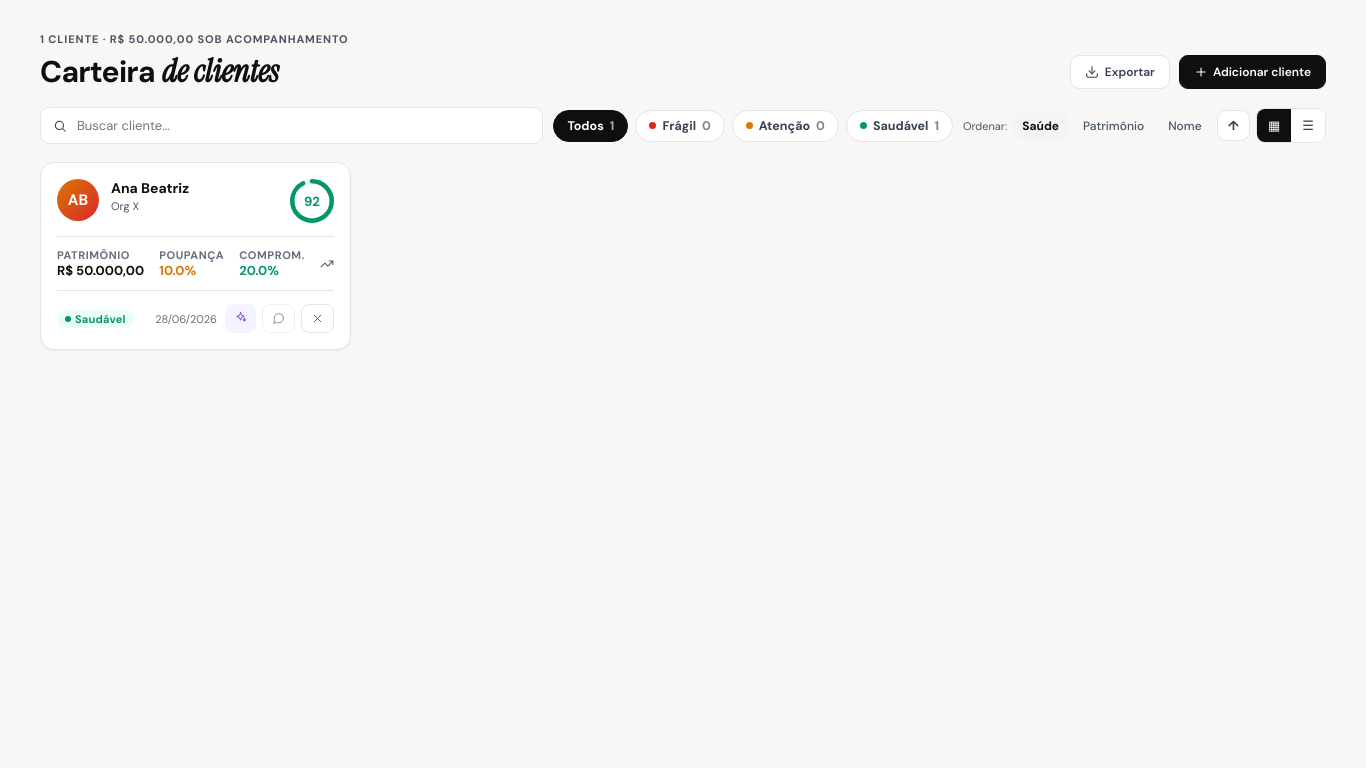
<ConsultantClientsPage> — Avaliar com IA › a avaliação sobrevive ao fechamento: reabrir mostra o resultado que chegou com o painel fechado
This screenshot has width=1366, height=768.
Expected: the text "Ana Beatriz" is shown, [111, 179, 189, 197]
Click the button named "Avaliar com IA".
click(240, 319)  # box [225, 304, 256, 333]
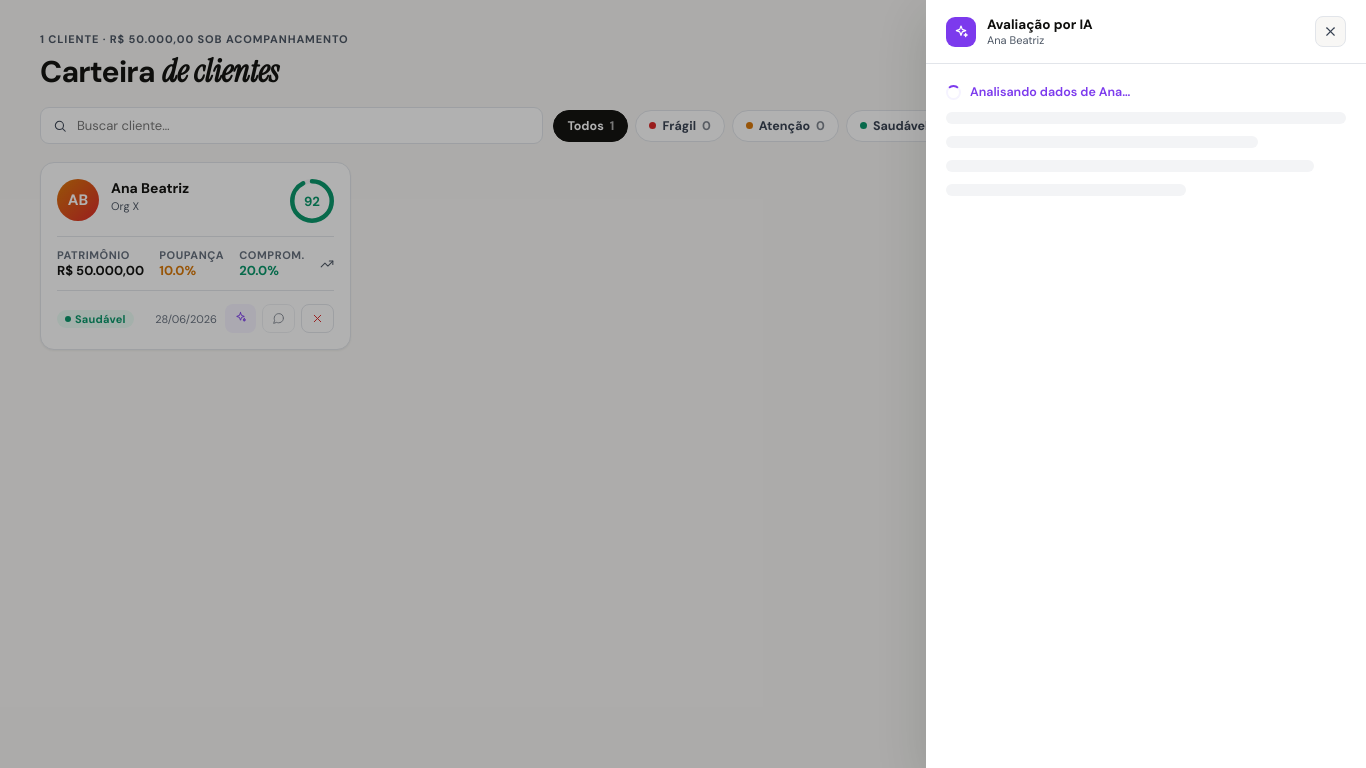
Expected: the dialog is shown
Click the button named "Fechar".
click(1330, 32)  # box [1315, 16, 1346, 47]
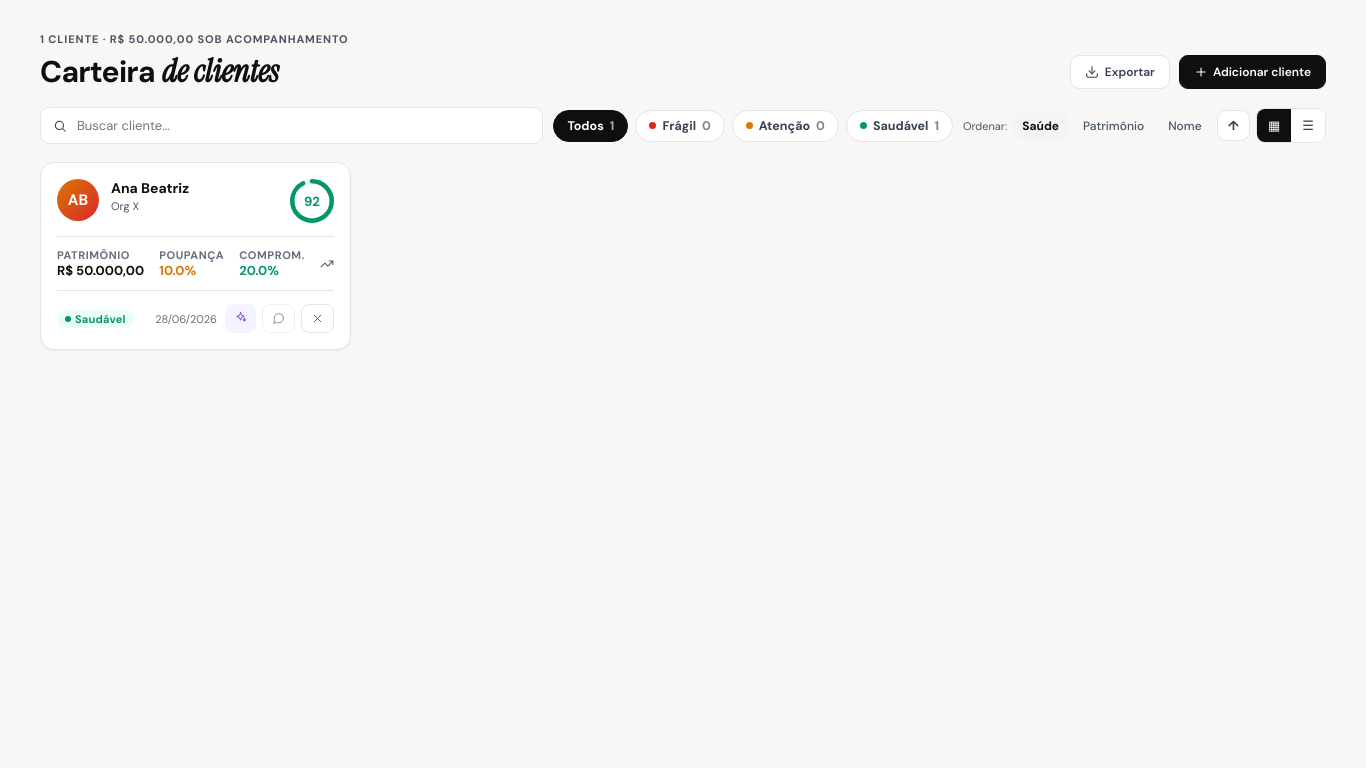
Expected: the dialog is gone
Click the button named "Avaliar com IA".
click(240, 319)  # box [225, 304, 256, 333]
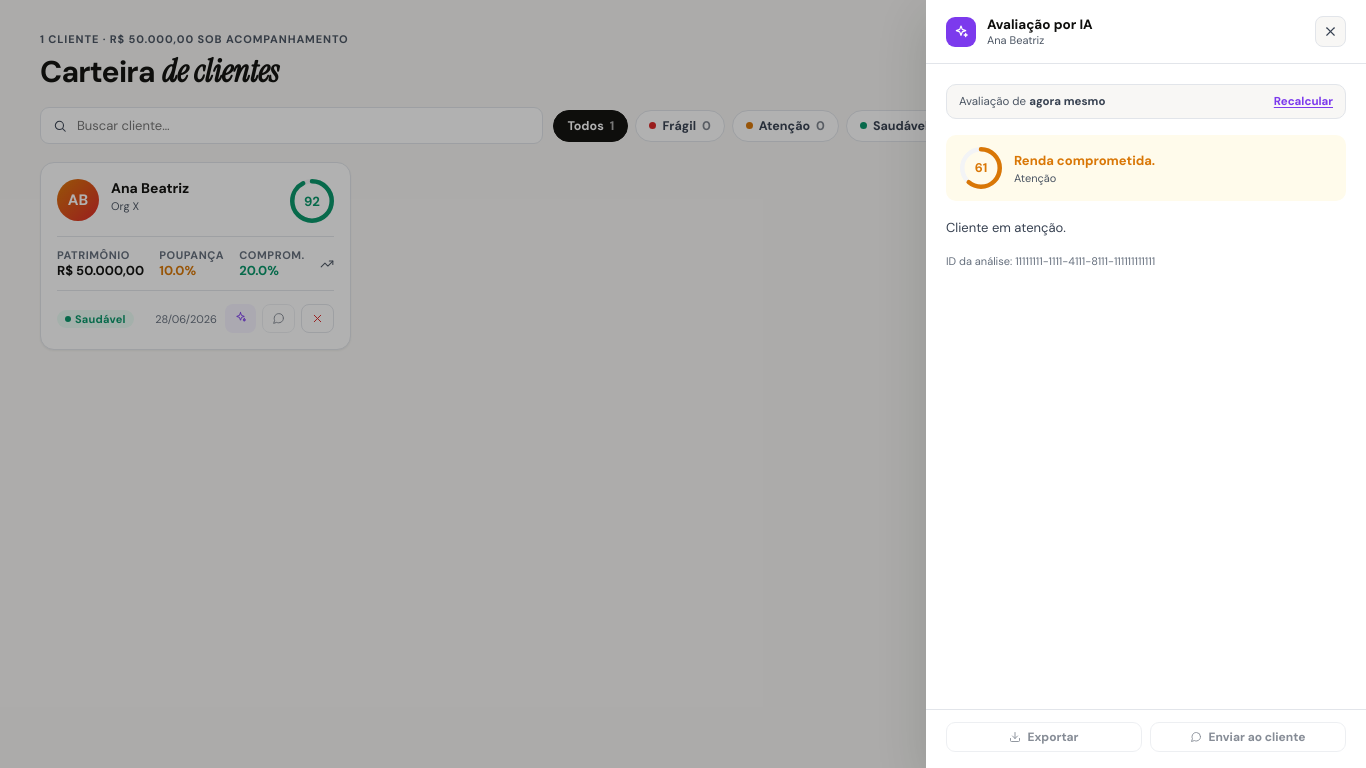
Expected: the text "Cliente em atenção." is shown, [946, 219, 1066, 236]
